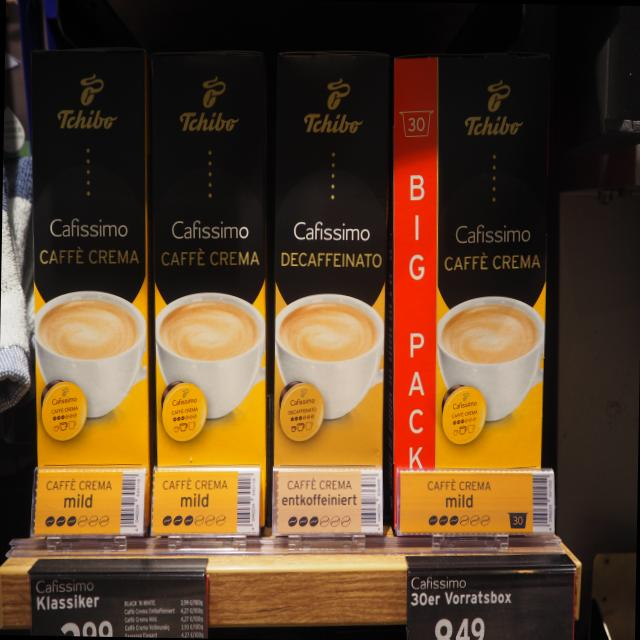Simo CCMild: (388, 51, 553, 542)
Simo CCMild bigpack: (27, 44, 149, 540), (147, 48, 269, 536)
Simo Decaff: (273, 49, 393, 535)
